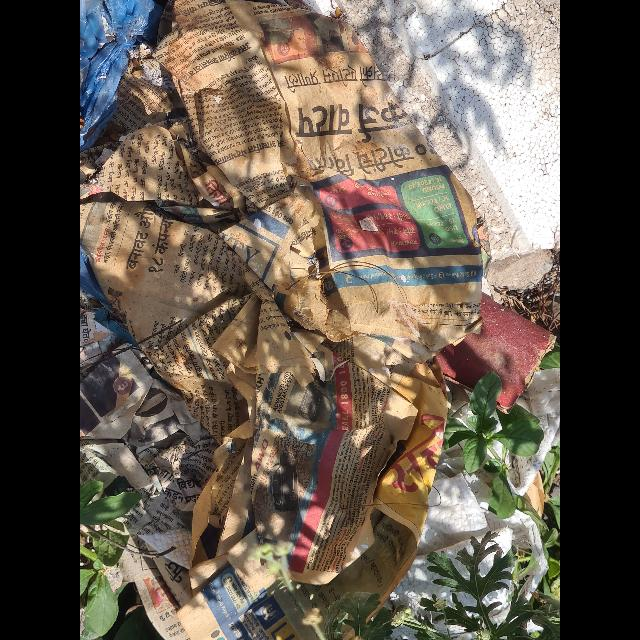trash: (81, 1, 557, 640)
